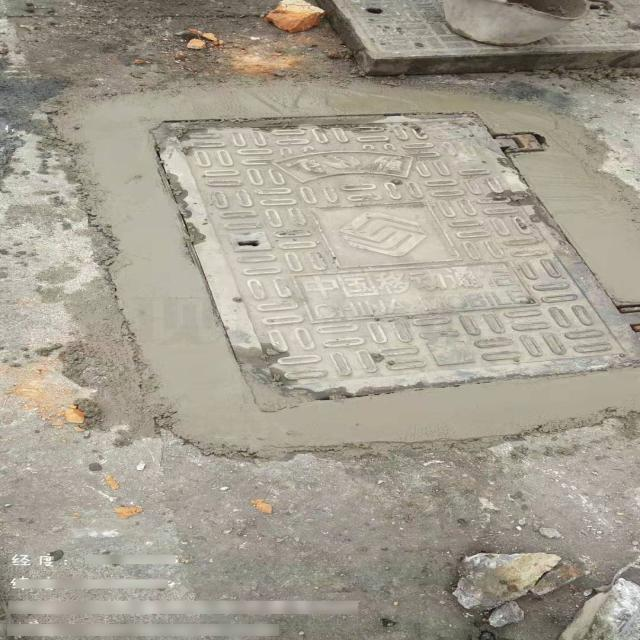Good: (146, 112, 640, 410)
